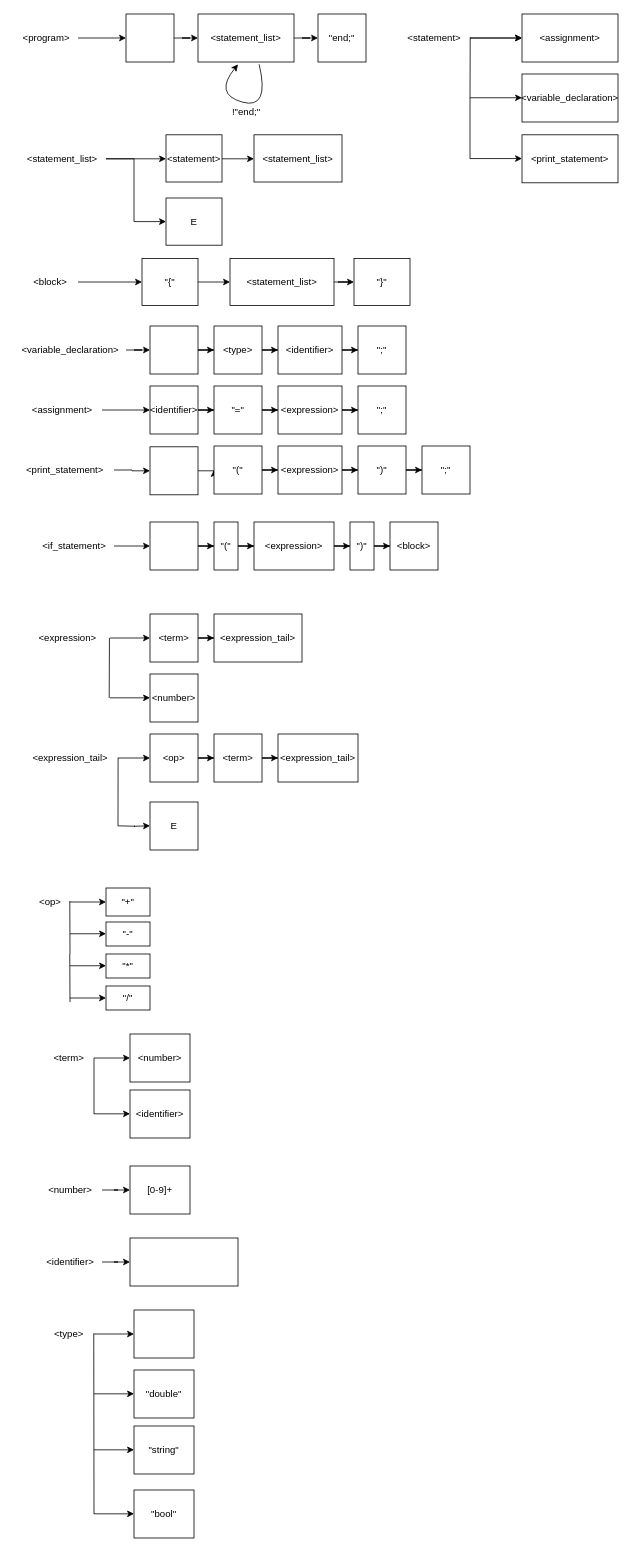
The diagram is 632 pixels wide and 1552 high, and some of its shapes have lost their labels. The centre of each missing label's shape, as x and y in pixels:
"if": (x=173, y=545)
"int": (x=163, y=1333)
"print": (x=173, y=470)
"program": (x=149, y=37)
"var": (x=173, y=349)
[a-zA-Z_][a-zA-Z0-9_]*: (x=183, y=1261)
